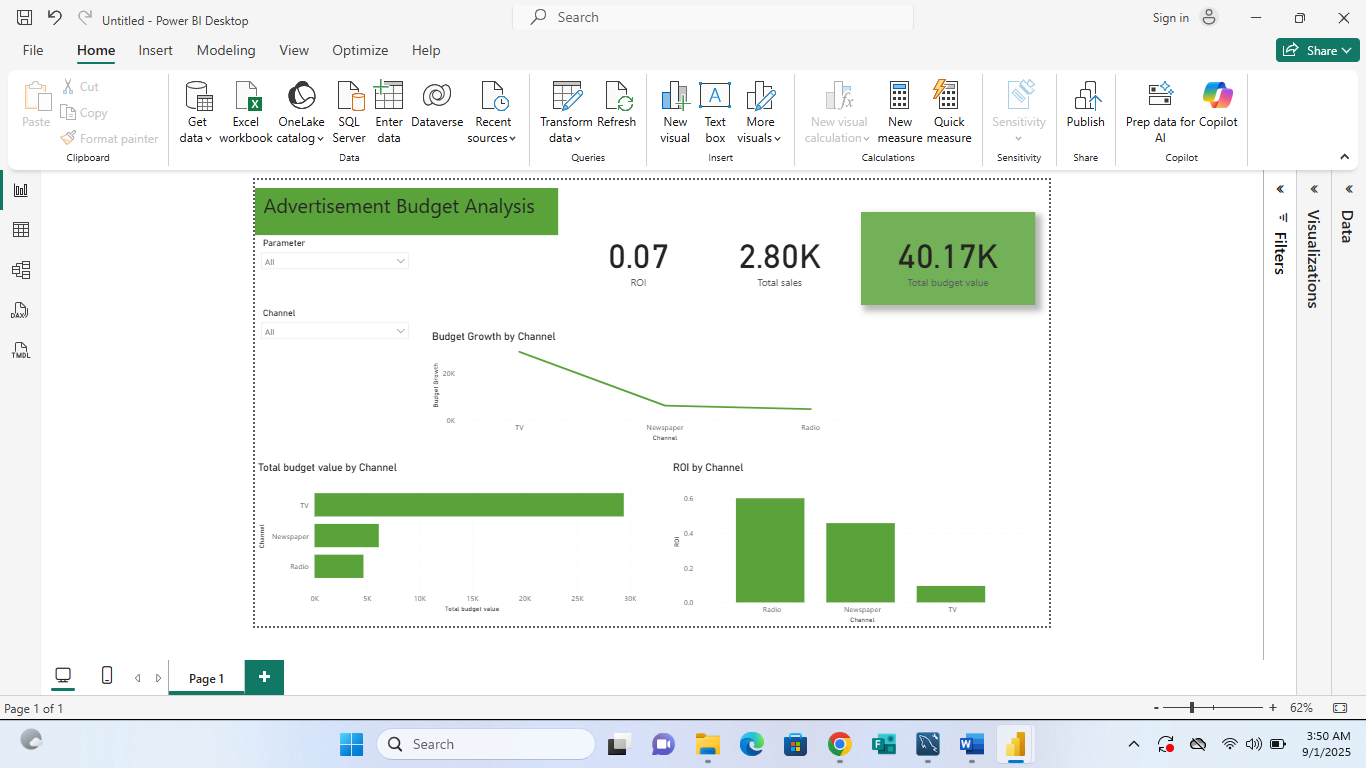

This screenshot's page, from the dashboard's own definition file:
{"tool":"powerbi","page":{"name":"Page 1","canvas":[1280,720],"ordinal":0},"visuals":[{"type":"slicer","fields":{"Values":["Parameter.Parameter"]},"box":[0,88.7,258.1,112.9],"z":0},{"type":"card","fields":{"Values":["Ad ANAYSIS.Total Sales"]},"box":[977.6,52.1,280.5,149.5],"z":1000},{"type":"clusteredColumnChart","fields":{"Y":["Ad ANAYSIS.ROI"],"Category":["DimChannel.Channel"]},"box":[668.6,453.5,577.8,267.1],"z":2000},{"type":"barChart","fields":{"Category":["DimChannel.Channel"],"Y":["Ad ANAYSIS.Total Sales"]},"box":[0,453.5,619.8,248.6],"z":3000},{"type":"slicer","fields":{"Values":["DimChannel.Channel"]},"box":[0,201.6,258.1,80.6],"z":5000},{"type":"card","fields":{"Values":["Ad ANAYSIS.Total sales"]},"box":[735.7,52.1,221.7,149.5],"z":5001},{"type":"card","fields":{"Values":["Ad ANAYSIS.ROI"]},"box":[517.4,52.1,201.6,149.5],"z":5002},{"type":"lineChart","fields":{"Y":["Ad ANAYSIS.Sales Growth"],"Category":["DimChannel.Channel"]},"box":[280.6,241.9,714.5,183.9],"z":5003},{"type":"textbox","box":[0,12.9,488.7,75.8],"z":5004}]}

Visuals, with their boxes on the page's 1280x720 design canvas (x1, y1, x2, y2). These are canvas units, not pixel positions in the 1366x768 screenshot, which may show the page scaled, cropped or inside an application window:
slicer - Parameter.Parameter: crop(0, 89, 258, 202)
card - Ad ANAYSIS.Total Sales: crop(978, 52, 1258, 202)
clusteredColumnChart - Ad ANAYSIS.ROI x DimChannel.Channel: crop(669, 454, 1246, 721)
barChart - DimChannel.Channel x Ad ANAYSIS.Total Sales: crop(0, 454, 620, 702)
slicer - DimChannel.Channel: crop(0, 202, 258, 282)
card - Ad ANAYSIS.Total sales: crop(736, 52, 957, 202)
card - Ad ANAYSIS.ROI: crop(517, 52, 719, 202)
lineChart - Ad ANAYSIS.Sales Growth x DimChannel.Channel: crop(281, 242, 995, 426)
textbox: crop(0, 13, 489, 89)
